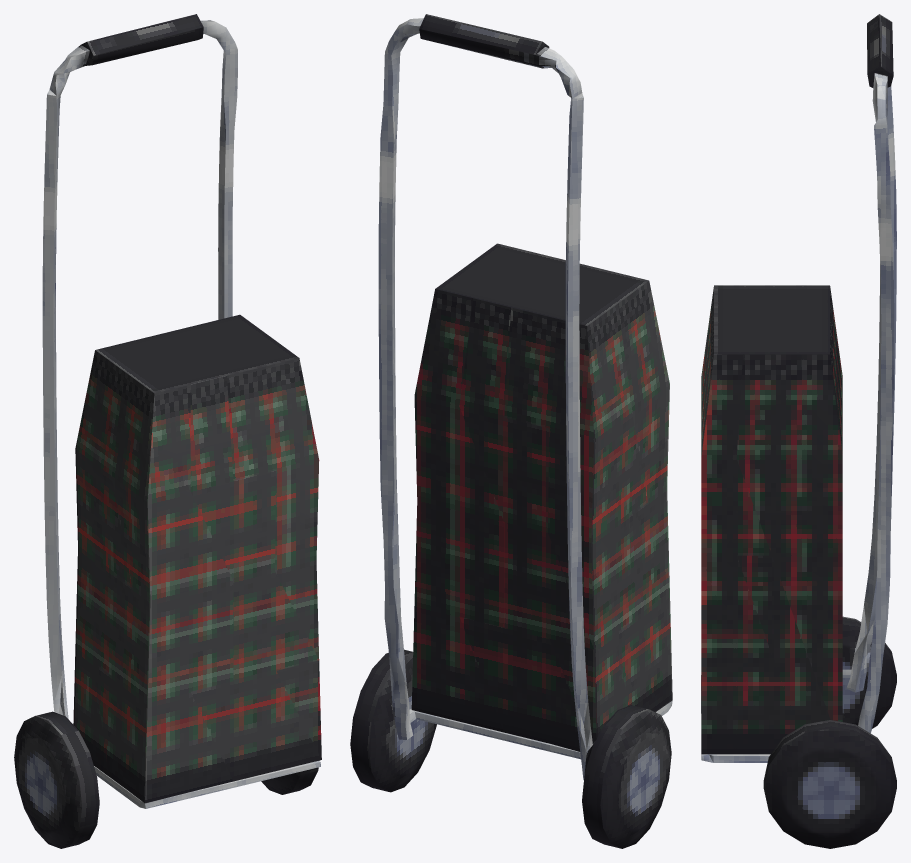
The model's file is cart_own.glb.
3 renders of one model, left to right at view 1: azimuth 30°, elevation 25°; view 2: azimuth 150°, elevation 25°; view 3: azimuth 270°, elevation 25°, orthographic. The views are drawn at different scales.
Parts seen in each view (by area): view 1: mesh; view 2: mesh; view 3: mesh.
Boxes of the visible parts, bbox=[...] form: mesh: bbox=[14, 14, 321, 848]; mesh: bbox=[350, 14, 672, 848]; mesh: bbox=[701, 14, 896, 848].
Size of the model in its own units: 0.3435 by 0.995 by 0.2349.
1 material, 1 textured.
